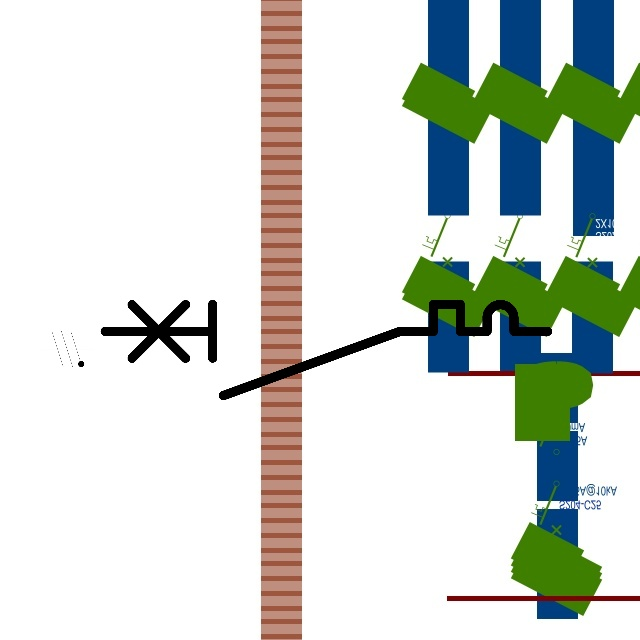interruptor_termomagnetico: (93, 293, 558, 407)
